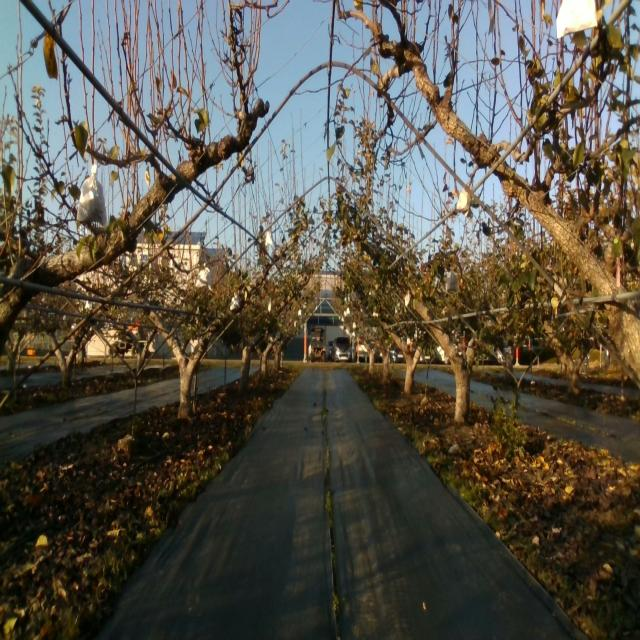pearbags: (76, 164, 108, 224), (194, 261, 210, 290), (456, 188, 471, 218), (445, 270, 457, 291)
